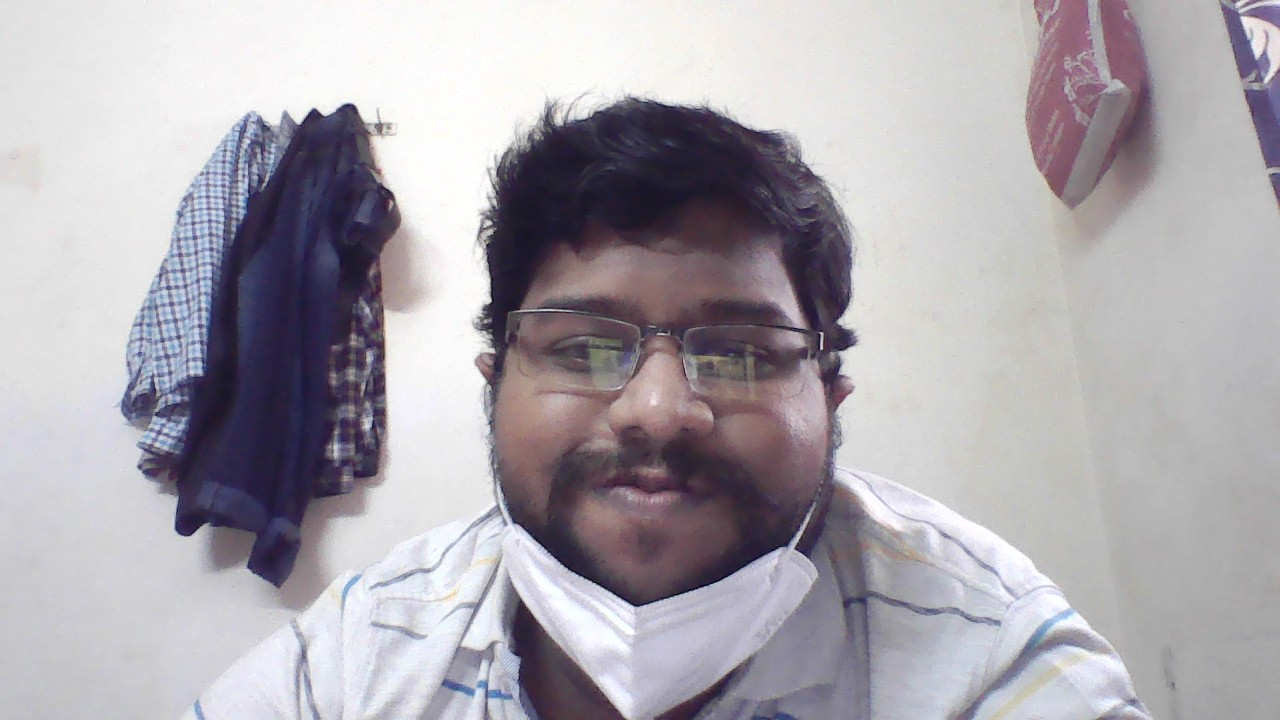NoMask: (444, 348, 888, 625)
